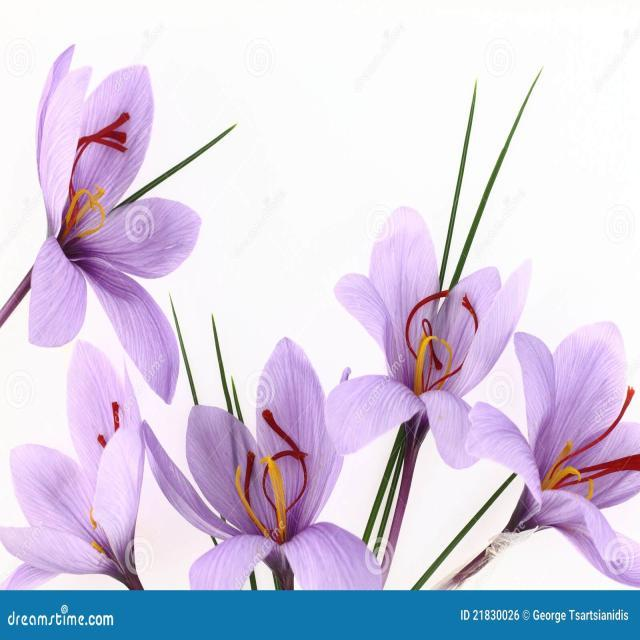Flower: (325, 203, 548, 509), (25, 31, 206, 398), (470, 306, 634, 588), (160, 358, 346, 590), (5, 344, 162, 596)
stigma: (550, 372, 635, 465), (402, 286, 452, 358), (258, 403, 314, 458), (80, 107, 133, 160)
